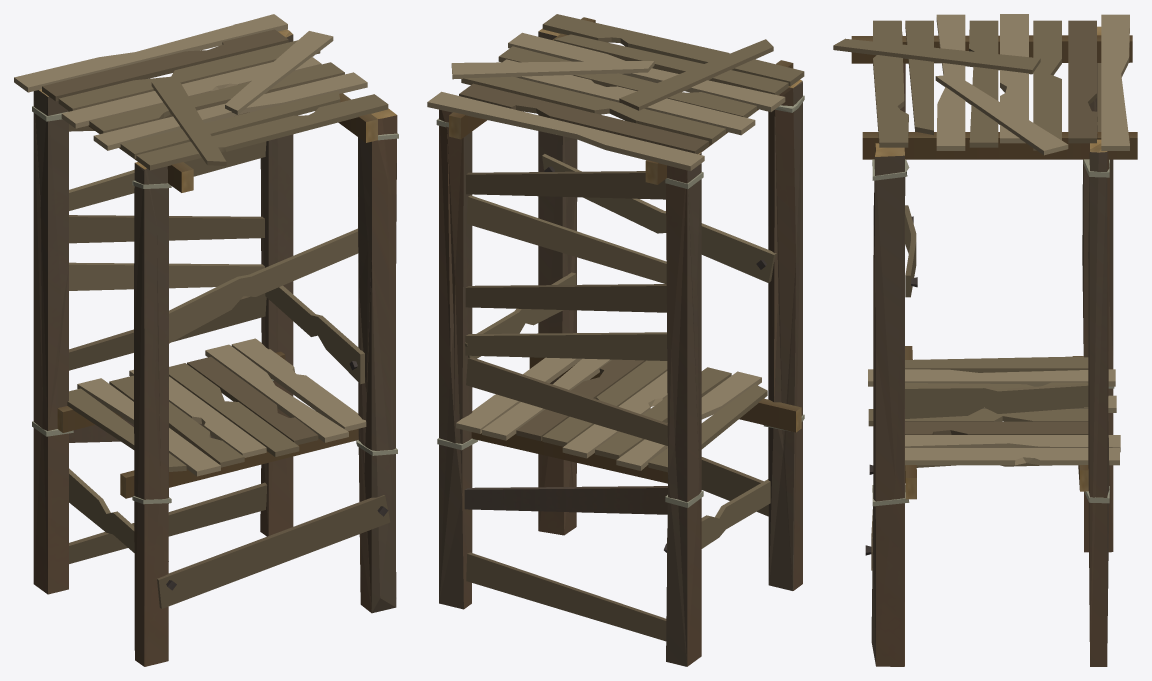
The model's file is Scaffold_3.fbx.
The picture shows the model from 3 angles, left to right: view 1: azimuth 30°, elevation 25°; view 2: azimuth 150°, elevation 25°; view 3: azimuth 270°, elevation 25°; orthographic projection. The views are drawn at different scales.
Visible parts, largest first — view 1: polySurface9791; view 2: polySurface9791; view 3: polySurface9791.
Boxes of the visible parts, x1,y1,x2,y2 form: polySurface9791: [14, 14, 398, 666]; polySurface9791: [427, 14, 804, 666]; polySurface9791: [833, 14, 1137, 666].
Bounding box in the file's own units: 386 × 670 × 352.
